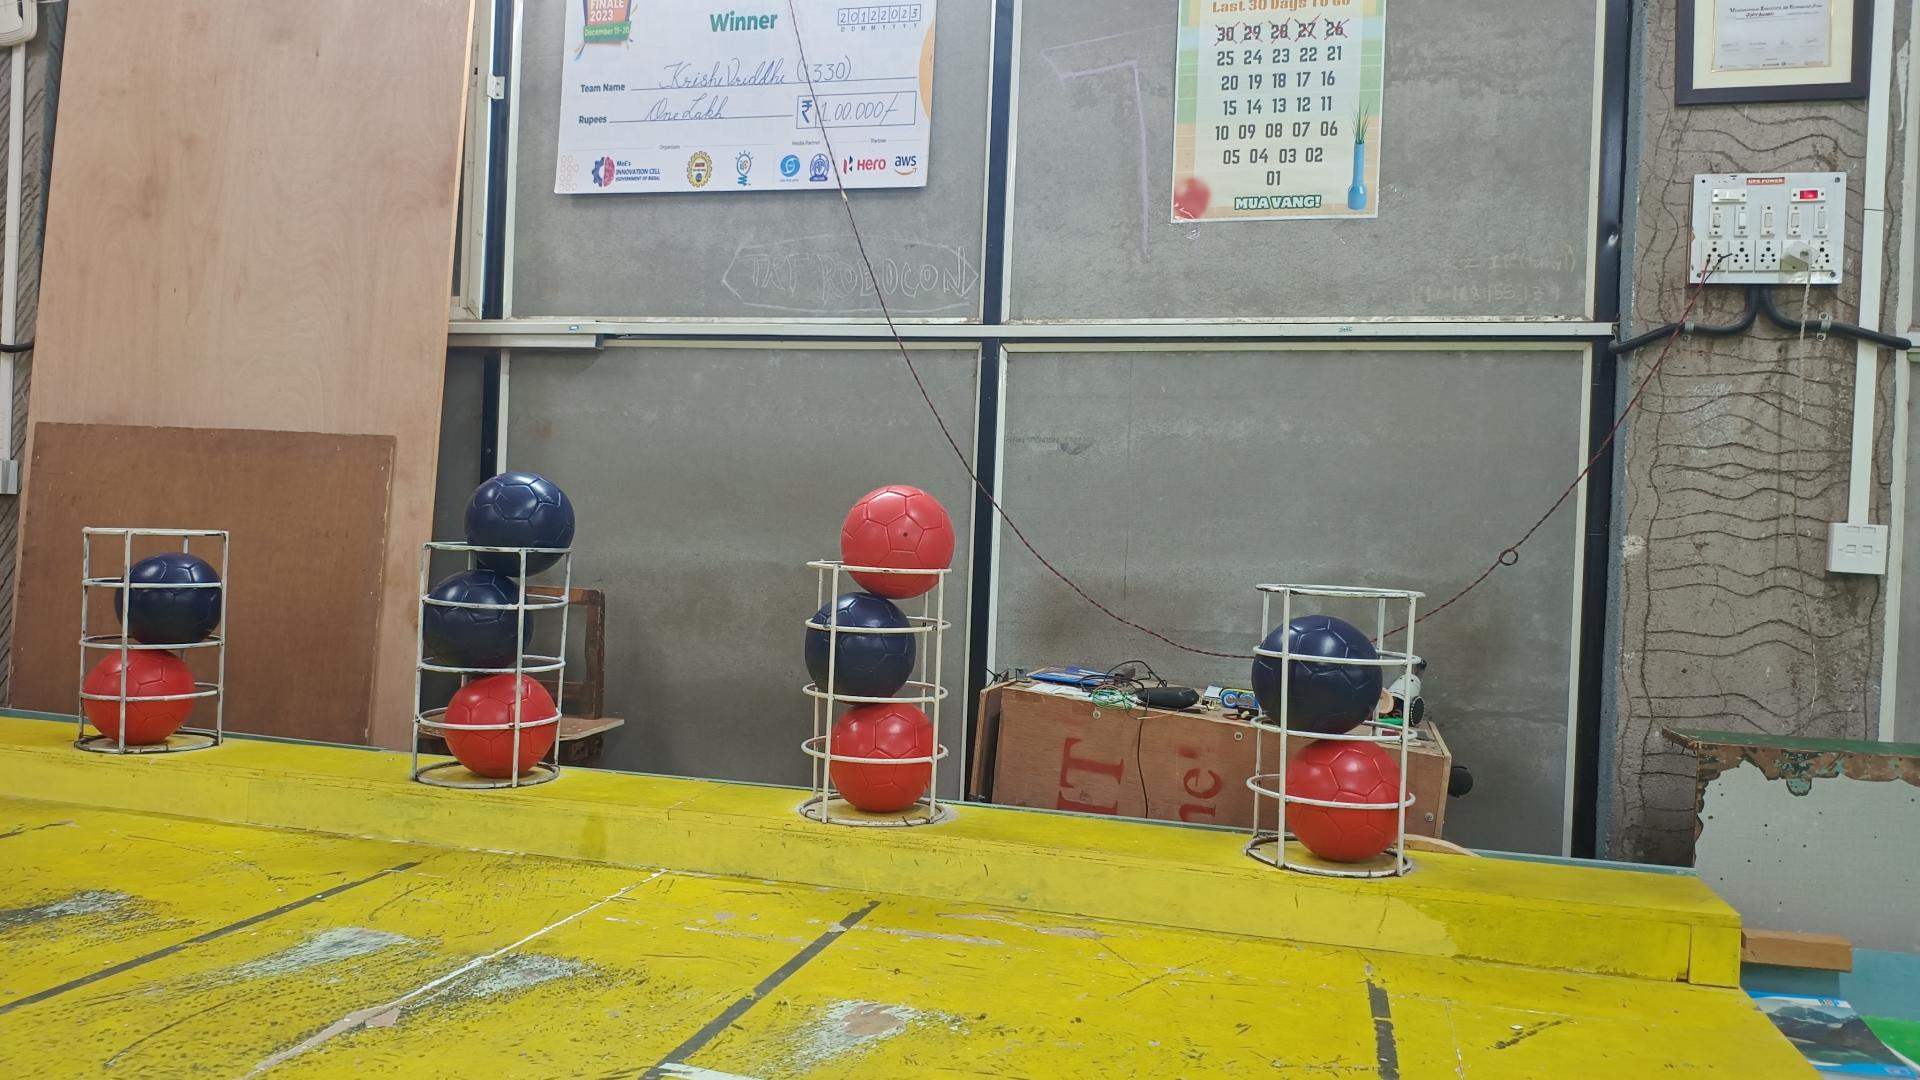dhoka: (1253, 616, 1383, 736), (803, 592, 915, 698), (464, 475, 576, 579), (423, 570, 531, 671), (113, 551, 223, 645)
laale: (1288, 742, 1416, 862), (829, 702, 945, 815), (841, 488, 957, 601), (443, 671, 560, 779), (86, 653, 198, 750)
